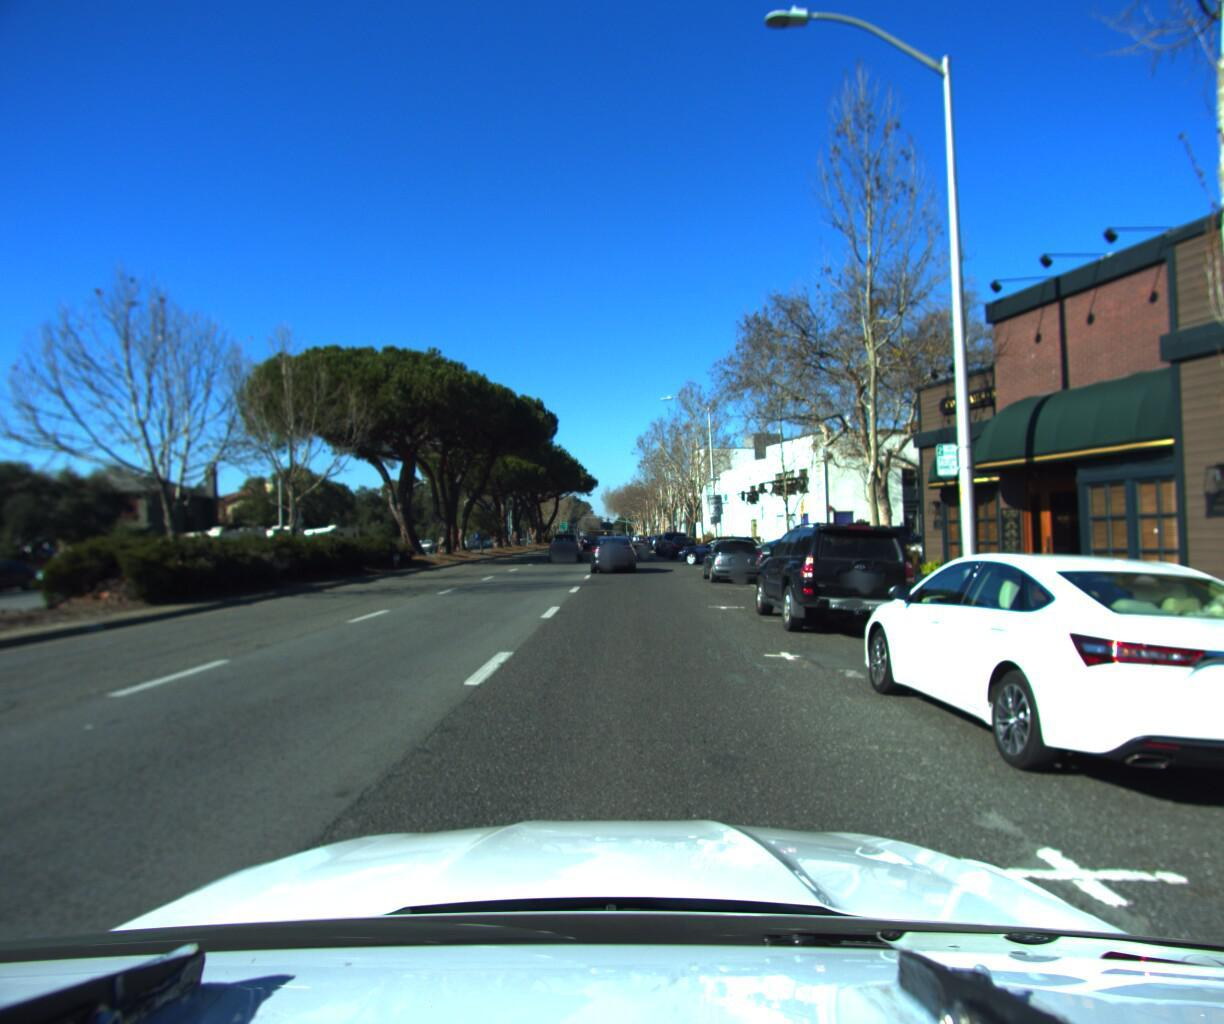car: (837, 536, 1224, 849), (745, 511, 941, 649), (829, 519, 955, 561), (745, 534, 863, 577), (20, 549, 115, 596), (701, 534, 769, 587), (672, 531, 764, 565), (0, 559, 57, 605), (587, 531, 637, 573), (550, 528, 587, 560), (658, 528, 695, 557), (667, 532, 703, 559), (582, 534, 602, 550)
other_vehicle: (174, 521, 276, 579), (237, 523, 319, 570), (301, 524, 365, 565)
